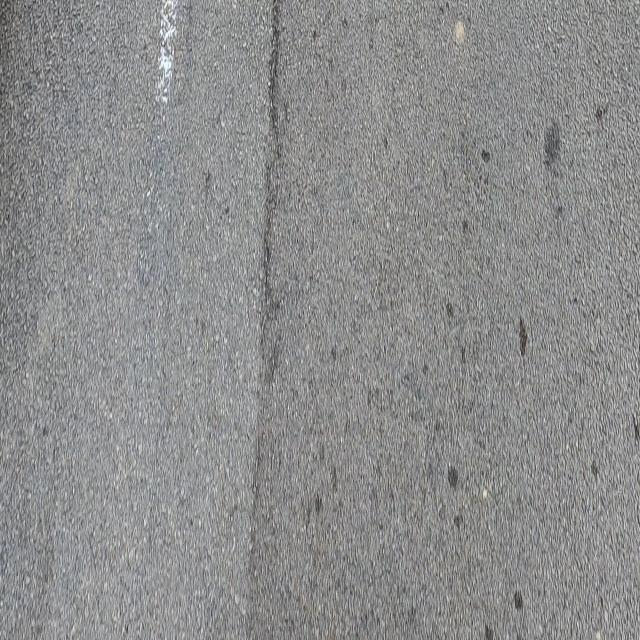Retak-Memanjang: (259, 163, 274, 365), (267, 1, 282, 141)
